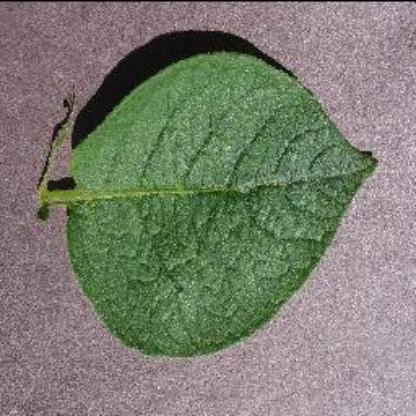Healthy-plant: (12, 22, 392, 376)
